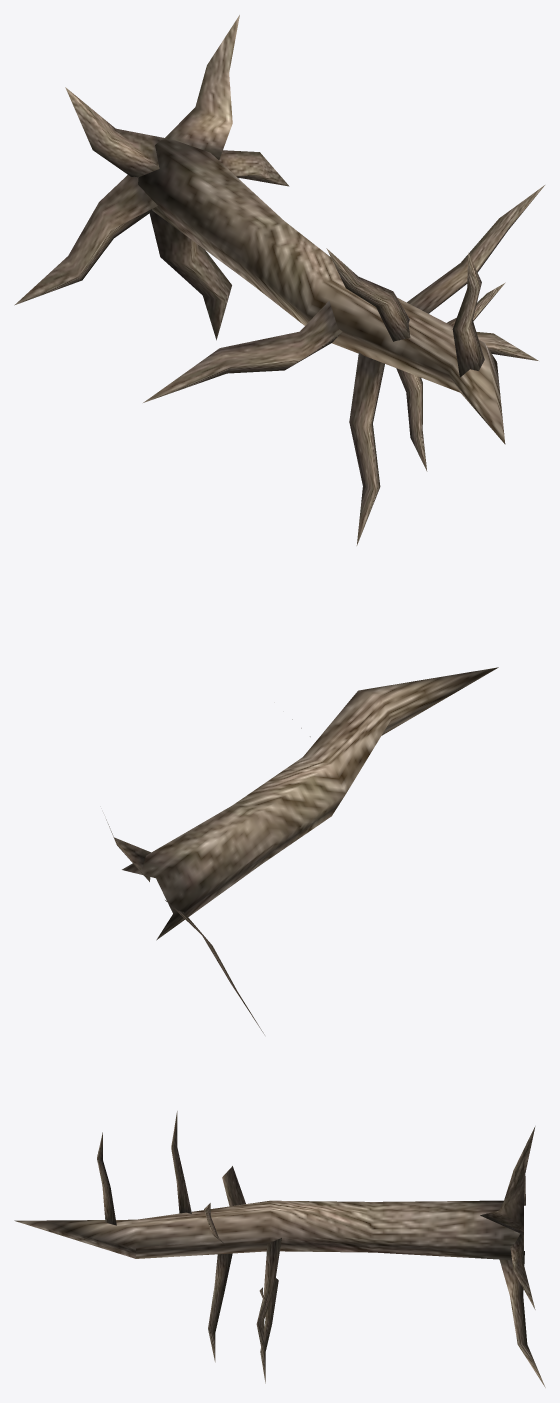
3 renders of one model, top to bottom at view 1: azimuth 30°, elevation 25°; view 2: azimuth 150°, elevation 25°; view 3: azimuth 270°, elevation 25°, orthographic. The views are drawn at different scales.
Parts seen in each view (by area): view 1: model_Object33; view 2: model_Object33; view 3: model_Object33.
Part boxes in pixels (x1=…): model_Object33: x1=14, y1=15, x2=544, y2=545; model_Object33: x1=106, y1=667, x2=498, y2=1034; model_Object33: x1=14, y1=1111, x2=545, y2=1387.
Size of the model in its own units: 3.26 by 2.57 by 5.11.
Materials: 1 (1 with a texture image).
